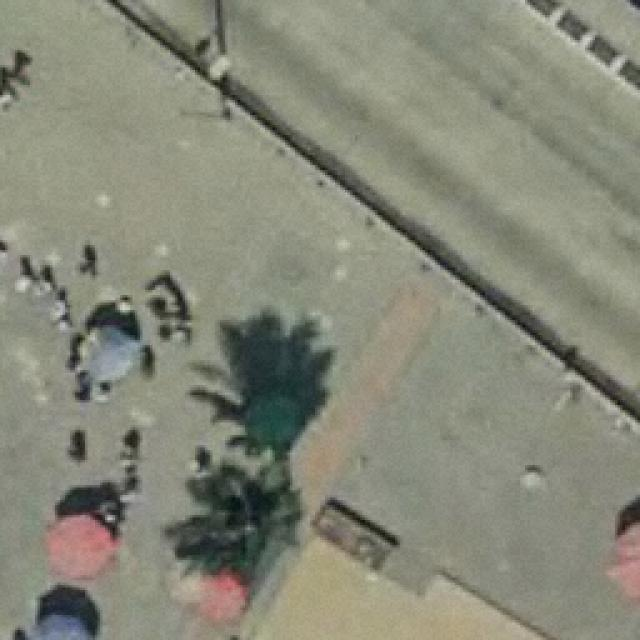vendedor_ambulante: (36, 507, 118, 583), (70, 322, 146, 386), (179, 567, 250, 627), (611, 514, 640, 610), (28, 605, 94, 640)
